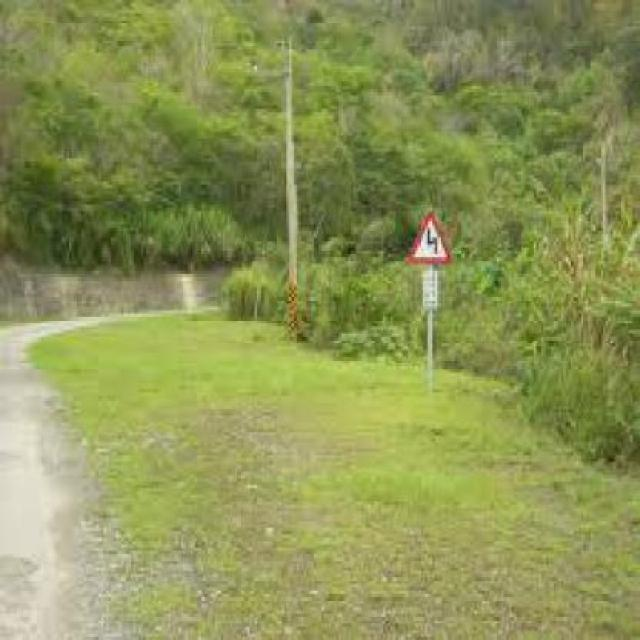warn_double_curve: (406, 208, 455, 268)
